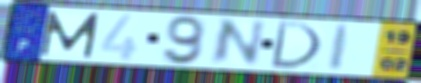4: (98, 13, 141, 62)
9: (162, 14, 207, 66)
D: (268, 19, 325, 71)
I: (326, 23, 355, 73)
M: (38, 9, 103, 59)
N: (206, 18, 269, 67)
